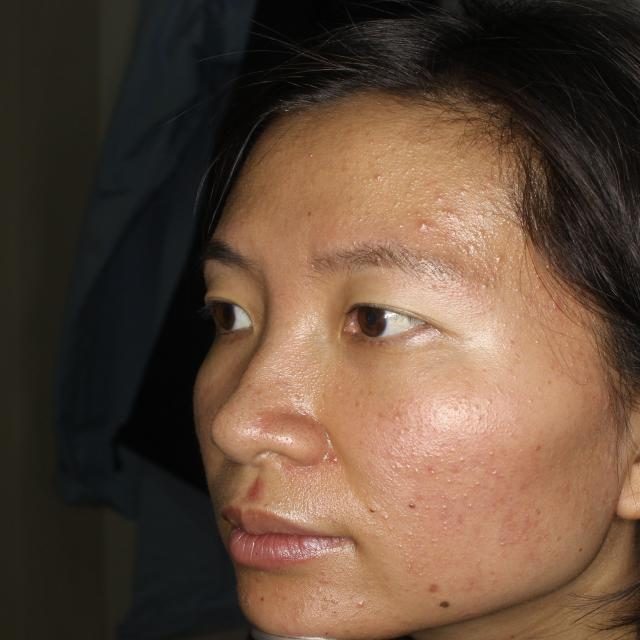comedone: (398, 214, 432, 239), (322, 448, 341, 482)
